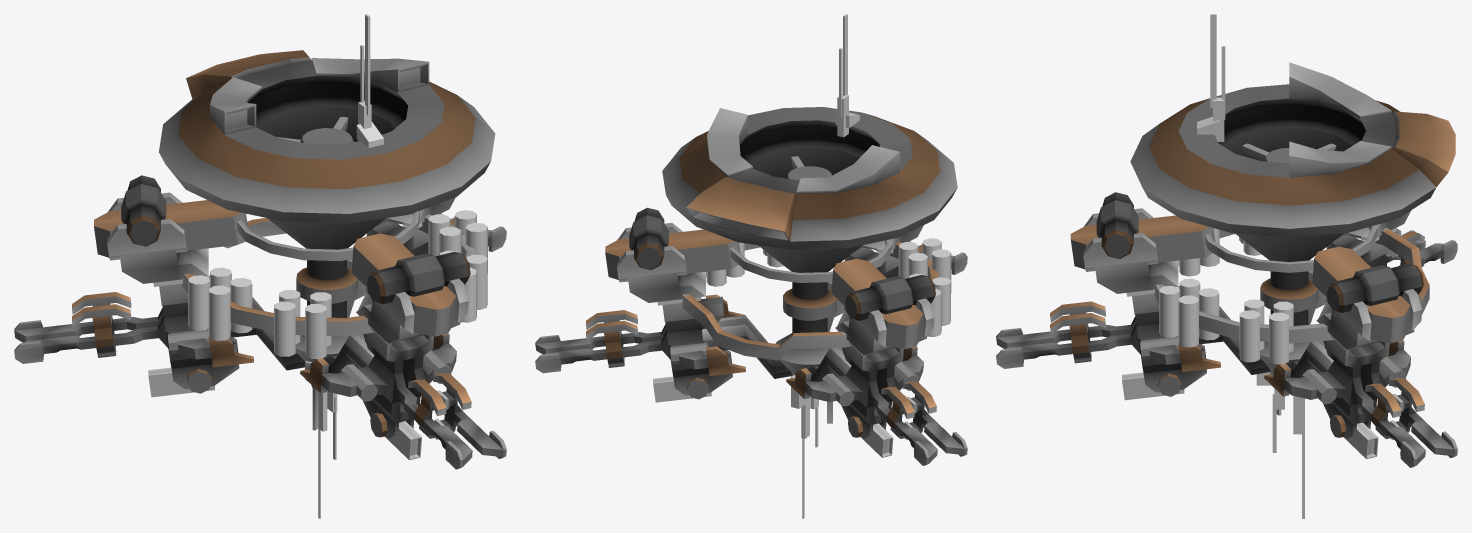
The model's file is SpaceStation4.fbx.
3 renders of one model, left to right at view 1: azimuth 30°, elevation 25°; view 2: azimuth 150°, elevation 25°; view 3: azimuth 270°, elevation 25°, orthographic. The views are drawn at different scales.
Visible parts, largest first — view 1: Circle, Cube, Cube.001, Circle.001, Circle.003, Cube.002, Circle.002, Circle.004; view 2: Circle, Cube.002, Cube.001, Cube, Circle.003, Circle.001, Circle.002; view 3: Circle, Cube.002, Cube, Circle.004, Cube.001, Circle.002, Circle.003.
Part boxes in pixels (x1,y1,x2,y2): Circle: (159, 14, 495, 518); Cube: (300, 233, 506, 469); Cube.001: (14, 175, 304, 397); Circle.001: (188, 267, 252, 340); Circle.003: (274, 290, 331, 358); Cube.002: (347, 197, 506, 317); Circle.002: (428, 210, 487, 272); Circle.004: (440, 250, 487, 322); Circle: (662, 14, 957, 518); Cube.002: (535, 207, 792, 402); Cube.001: (786, 258, 967, 465); Cube: (827, 225, 967, 331); Circle.003: (898, 238, 951, 292); Circle.001: (909, 273, 950, 336); Circle.002: (706, 242, 744, 286); Circle: (1130, 14, 1455, 518); Cube.002: (1264, 246, 1457, 467); Cube: (996, 192, 1270, 400); Circle.004: (1159, 278, 1219, 347); Cube.001: (1308, 210, 1457, 324); Circle.002: (1239, 299, 1293, 364); Circle.003: (1178, 228, 1219, 276).
Size of the model in its own units: 66.89 by 69.79 by 57.92.
